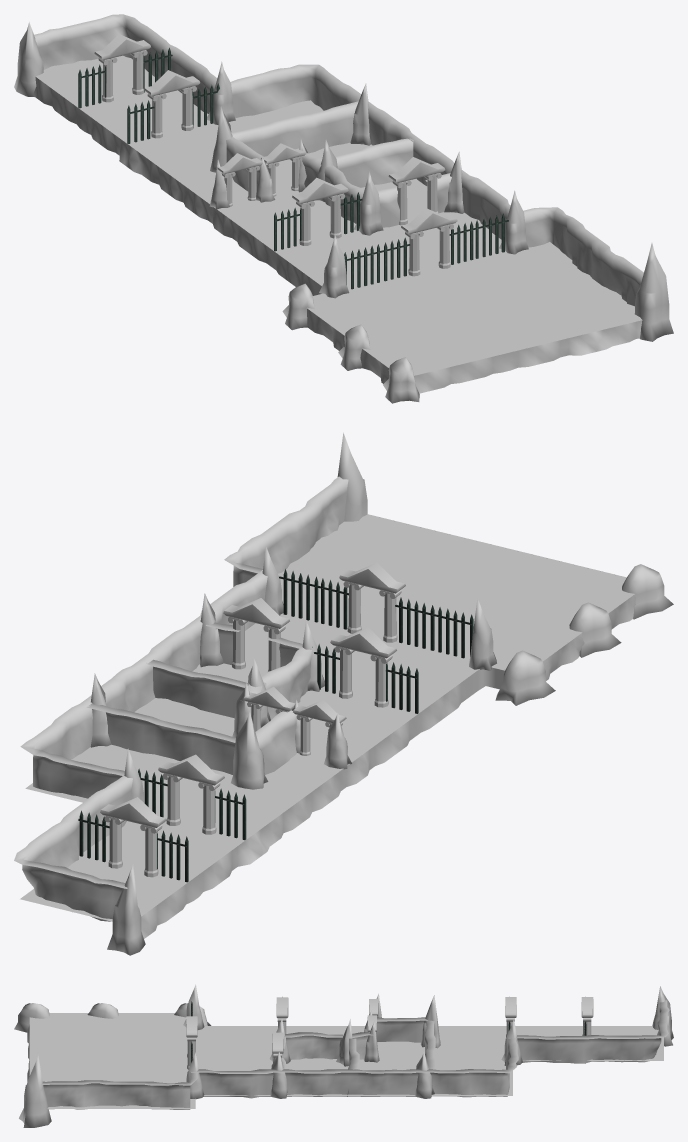
The model's file is Lvl_1.FBX.
The picture shows the model from 3 angles, top to bottom: view 1: azimuth 30°, elevation 25°; view 2: azimuth 150°, elevation 25°; view 3: azimuth 270°, elevation 25°; orthographic projection. The views are drawn at different scales.
Parts seen in each view (by area): view 1: Plane003, Cube030, Cube004, Cube_010, Cube031, Box002, Box005, Cube024, Cube022, Box003, Box006, Cube_008 (+18 smaller); view 2: Plane003, Cube_008, Cube004, Cube032, Cube_009, Cube_010, Cube030, Box002, Box005, Box006, Box003, Cube031 (+18 smaller); view 3: Plane003, Cube030, Cube026, Cube_010, Cube025, Cube004, Cube032, Cube022, Cube028, Cube031, Cube023, Cube_009 (+6 smaller).
Part boxes in pixels (<box>): Plane003: <box>33,14,643,393</box>; Cube030: <box>634,243,673,341</box>; Cube004: <box>14,22,43,96</box>; Cube_010: <box>383,357,419,403</box>; Cube031: <box>319,234,349,298</box>; Box002: <box>405,224,453,276</box>; Box005: <box>147,86,196,138</box>; Cube024: <box>353,171,383,235</box>; Cube022: <box>499,190,528,254</box>; Box003: <box>296,193,345,245</box>; Box006: <box>98,50,147,102</box>; Cube_008: <box>282,283,314,330</box>; Plane003: <box>14,476,635,938</box>; Cube_008: <box>495,650,555,705</box>; Cube004: <box>107,864,145,955</box>; Cube032: <box>231,712,268,789</box>; Cube_009: <box>569,602,621,657</box>; Cube_010: <box>622,564,673,619</box>; Cube030: <box>337,432,367,521</box>; Box002: <box>343,581,401,642</box>; Box005: <box>162,773,220,834</box>; Box006: <box>104,816,162,877</box>; Box003: <box>335,646,392,707</box>; Cube031: <box>469,598,496,670</box>; Plane003: <box>27,1000,669,1109</box>; Cube030: <box>19,1055,51,1127</box>; Cube026: <box>414,1052,434,1098</box>; Cube_010: <box>14,1003,49,1032</box>; Cube025: <box>270,1052,287,1098</box>; Cube004: <box>652,986,673,1046</box>; Cube032: <box>420,995,440,1048</box>; Cube022: <box>186,1052,204,1099</box>; Cube028: <box>363,1021,379,1062</box>; Cube031: <box>183,984,204,1029</box>; Cube023: <box>336,1019,352,1066</box>; Cube_009: <box>87,1003,118,1018</box>.
Bounding box in the file's own units: 1889 × 568 × 4915.
